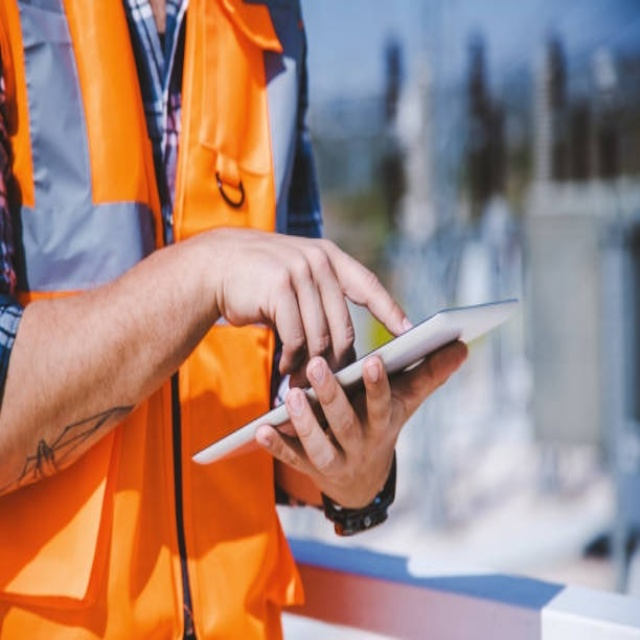Sin_guantes: (251, 296, 469, 518), (209, 212, 410, 386)
